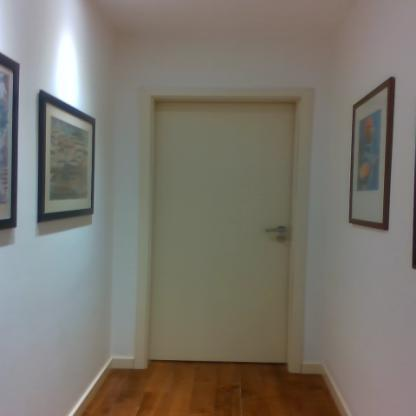door: (155, 102, 290, 362)
lever: (263, 226, 289, 234)
